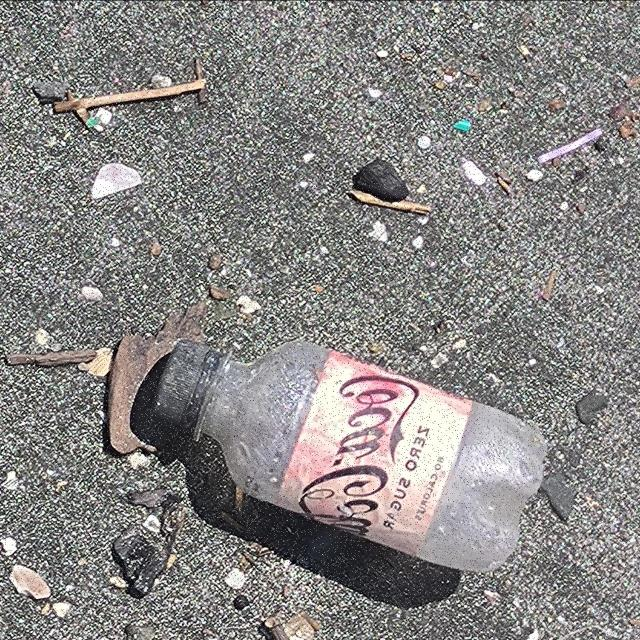plastic_waste: (152, 340, 548, 573)
